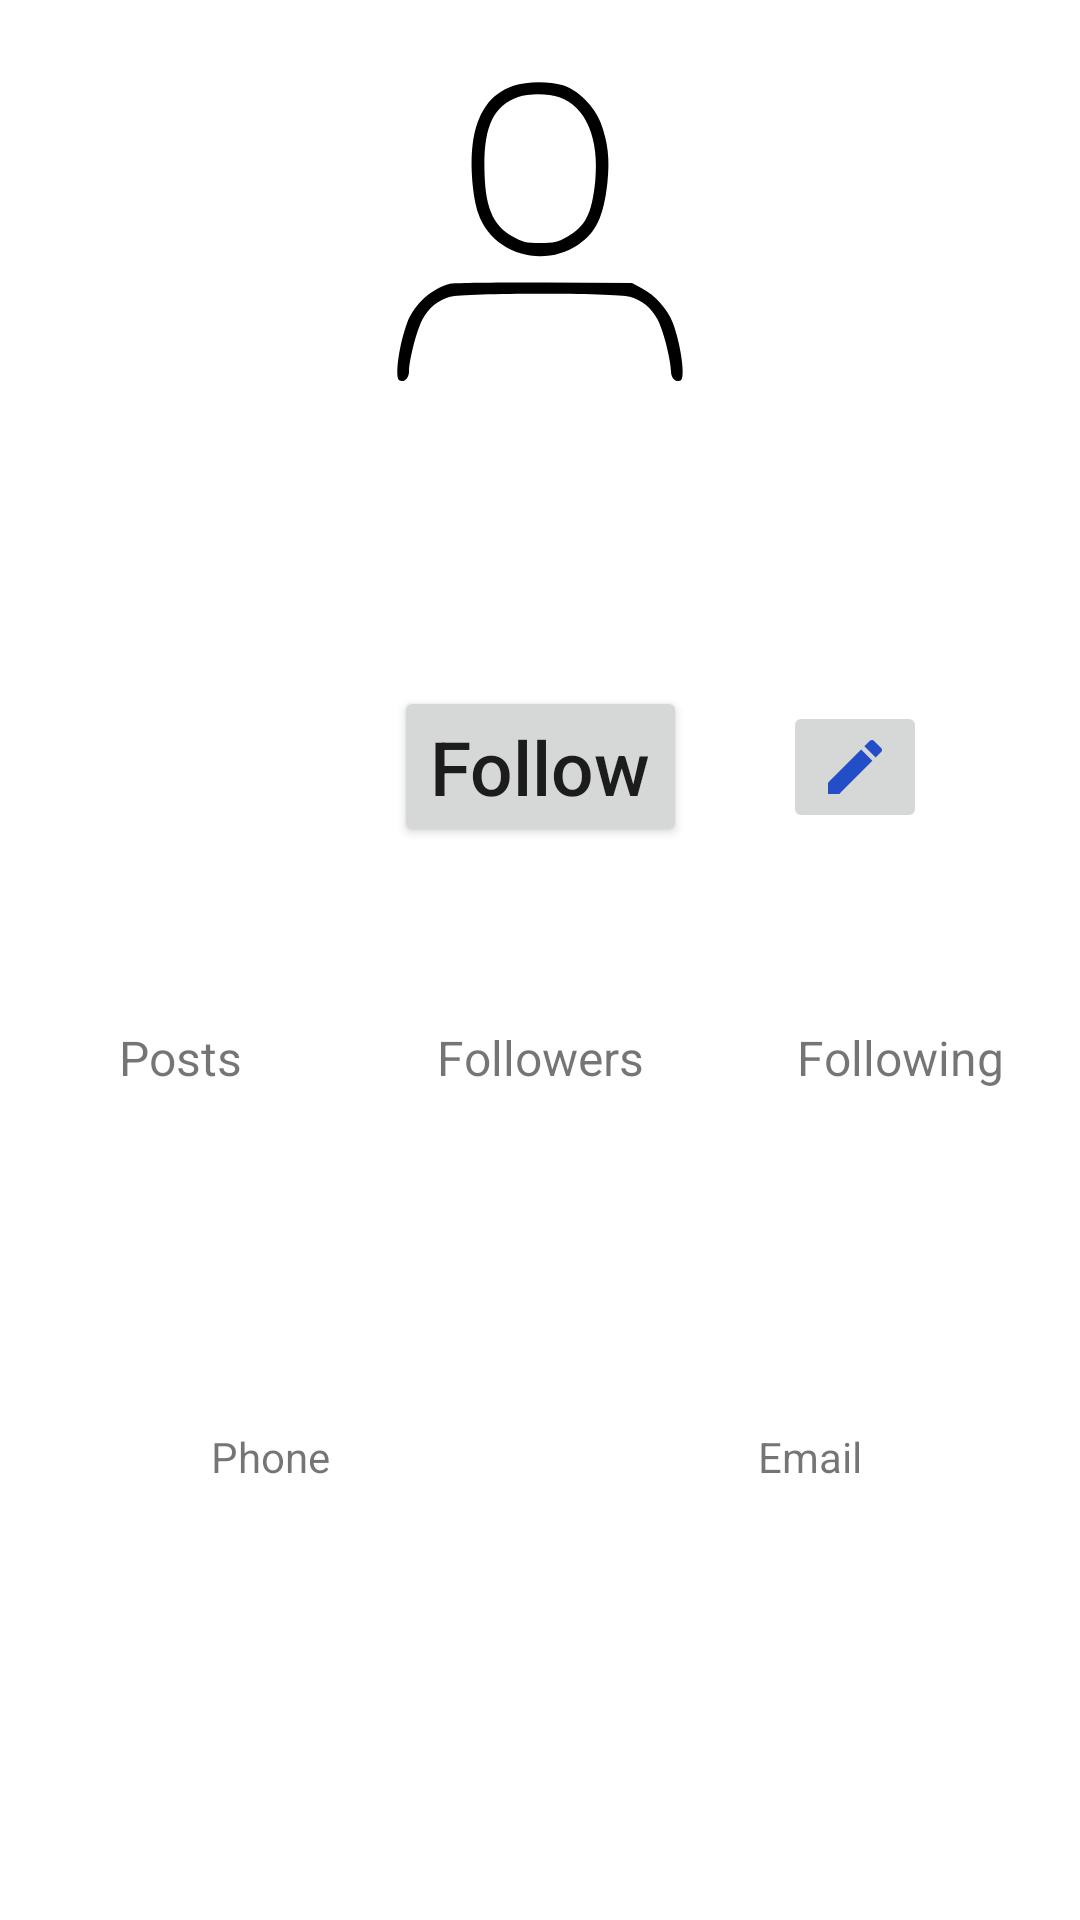

Icon bounding boxes for this 1080*1920 phone screenshot, format (x1, y1, x2, y2):
edit: (795, 719, 915, 815)
user emoji: (397, 82, 683, 381)
